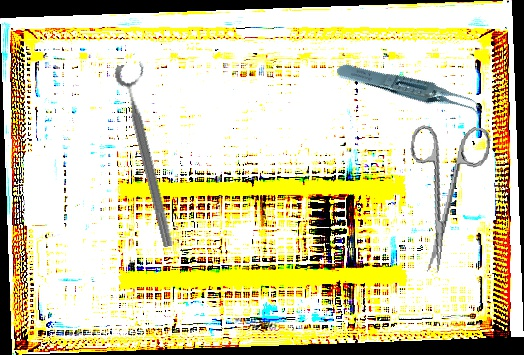Fixation Ring: (112, 60, 189, 249)
Iris Scissors: (391, 117, 493, 279)
Tissue Forceps: (334, 35, 488, 148)
